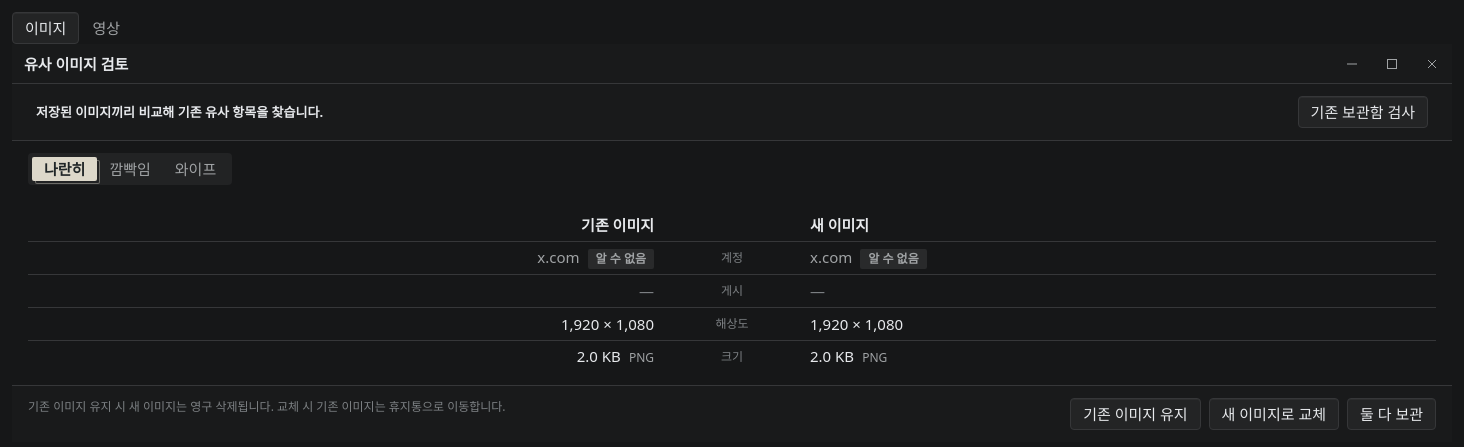
Test: hides the position counter after the last review is resolved
The image size is (1464, 447).
What coordinates should you click on to do the following:
click the button "기존 이미지 유지"
I would click on:
 (1135, 414)
Its box is [1070,398,1201,430].
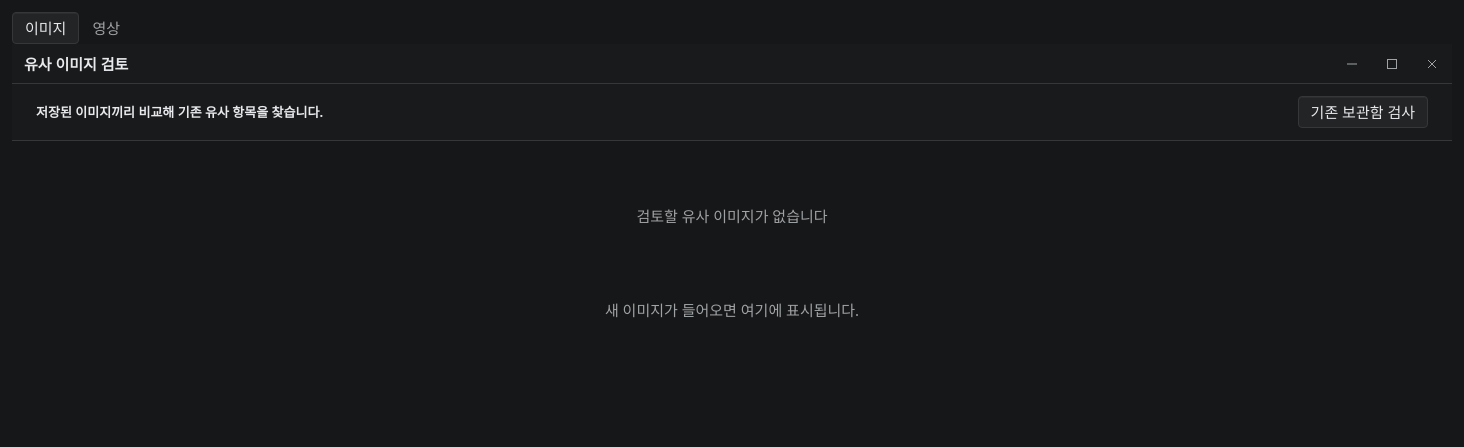
Expected: the heading "검토할 유사 이미지가 없습니다" is shown, [636,206,828,226]
